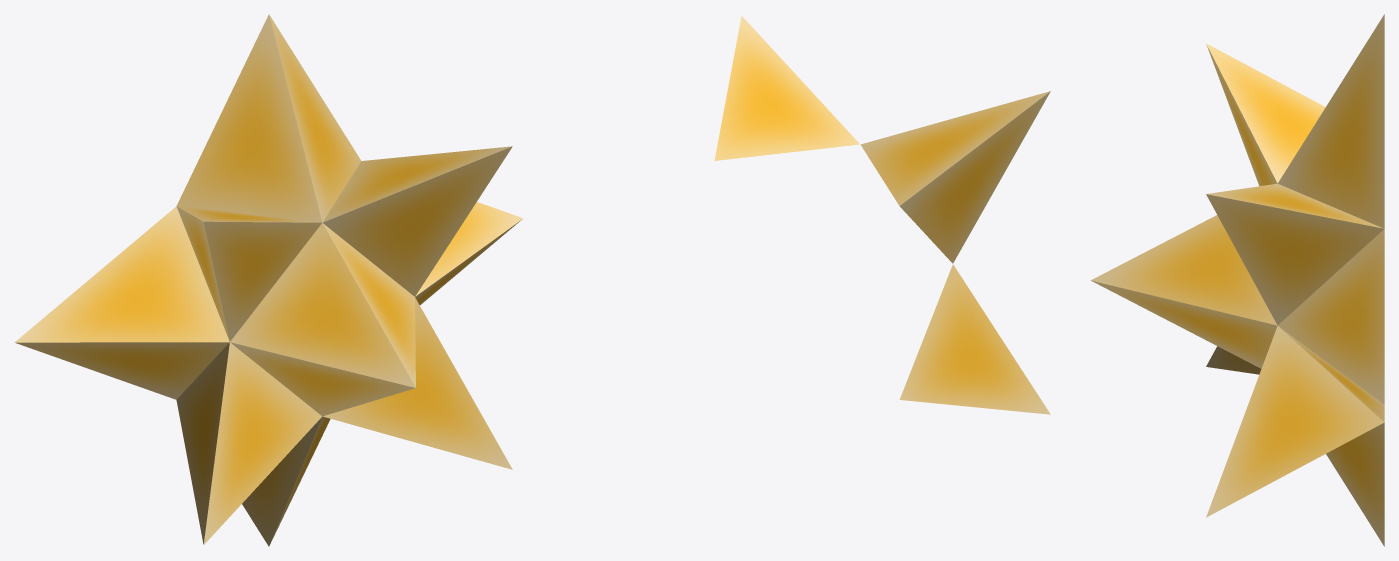
The picture shows the model from 3 angles, left to right: view 1: azimuth 30°, elevation 25°; view 2: azimuth 150°, elevation 25°; view 3: azimuth 270°, elevation 25°; orthographic projection.
Visible parts, largest first — view 1: Cube.008; view 2: Cube.008; view 3: Cube.008.
Boxes of the visible parts, box(x1,y1,x2,y2) form: Cube.008: box(15, 14, 522, 546); Cube.008: box(714, 16, 1050, 414); Cube.008: box(1090, 14, 1384, 546).
Size of the model in its own units: 1.43 by 1.43 by 0.7174.
Materials: 1 (1 with a texture image).
